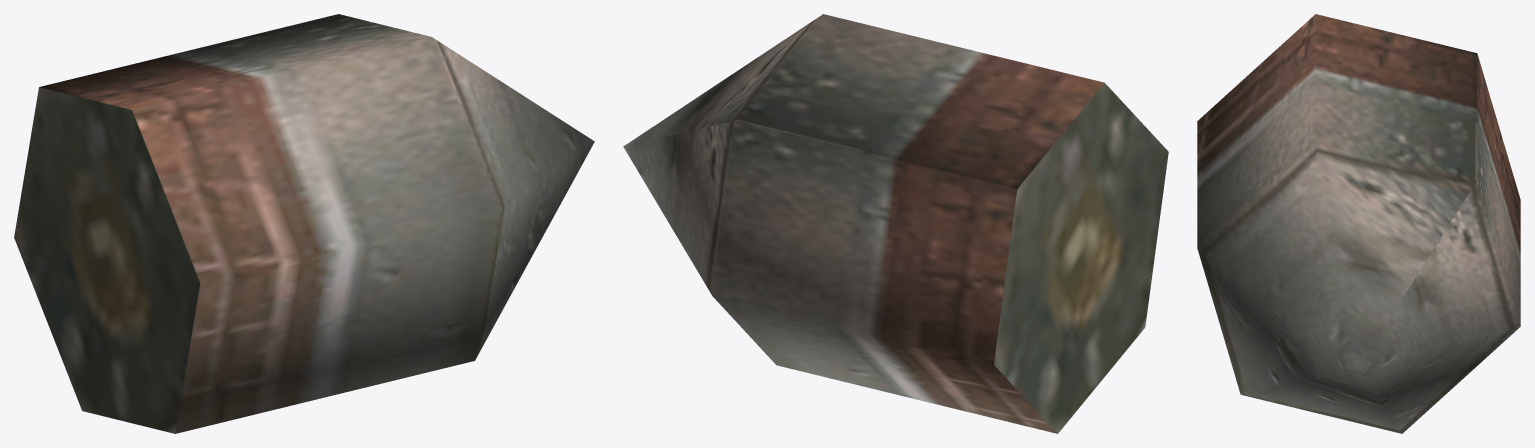
File: projectile_m203grenade_LOD1.obj
The picture shows the model from 3 angles, left to right: view 1: azimuth 30°, elevation 25°; view 2: azimuth 150°, elevation 25°; view 3: azimuth 270°, elevation 25°; orthographic projection. The views are drawn at different scales.
Visible parts, largest first — view 1: mtl_weapon_m203_grenade; view 2: mtl_weapon_m203_grenade; view 3: mtl_weapon_m203_grenade.
Boxes of the visible parts, bbox=[...] form: mtl_weapon_m203_grenade: bbox=[14, 14, 594, 433]; mtl_weapon_m203_grenade: bbox=[623, 14, 1168, 433]; mtl_weapon_m203_grenade: bbox=[1197, 14, 1520, 433].
Bounding box in the file's own units: 8.74 × 5.78 × 5.78.
